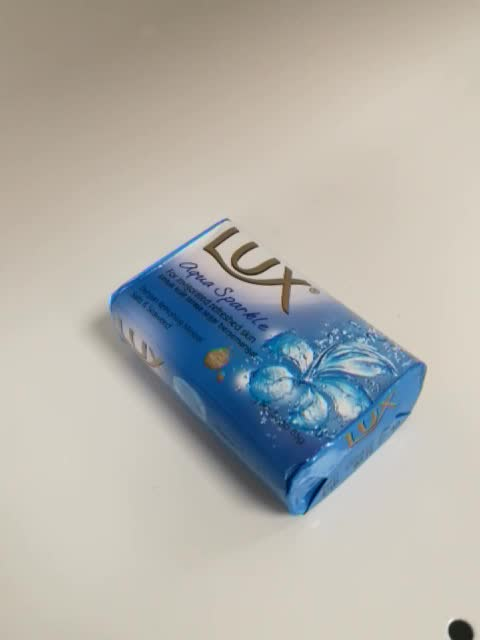soap: (108, 217, 429, 516)
